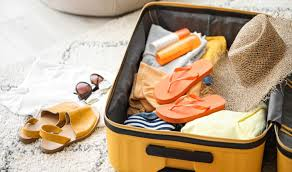suitcase: (101, 2, 292, 172)
